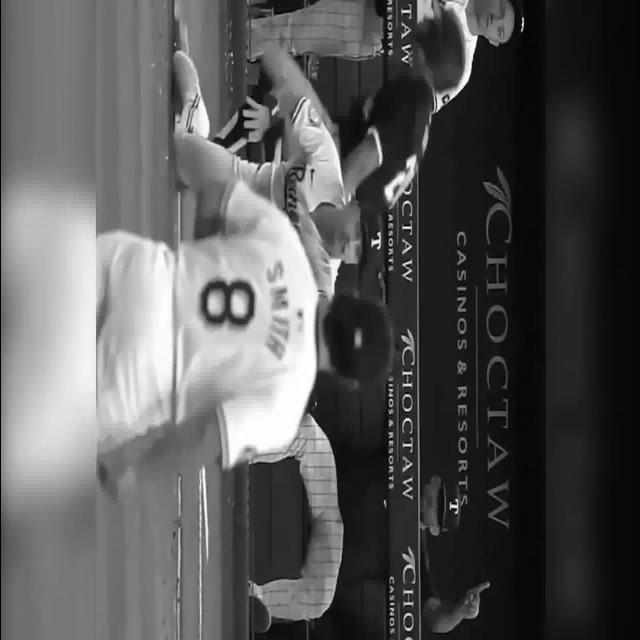shoe: (171, 49, 210, 193), (248, 595, 270, 634)
